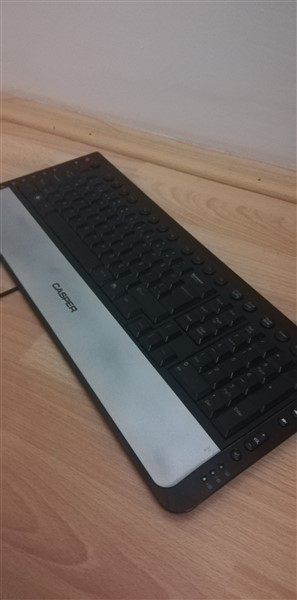klavye: (3, 145, 297, 512)
